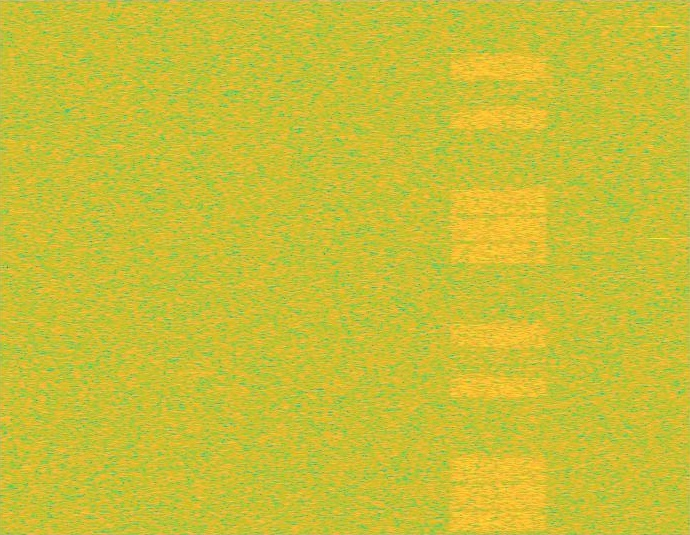LTE: (447, 0, 550, 534)
Radar: (652, 0, 666, 534)
